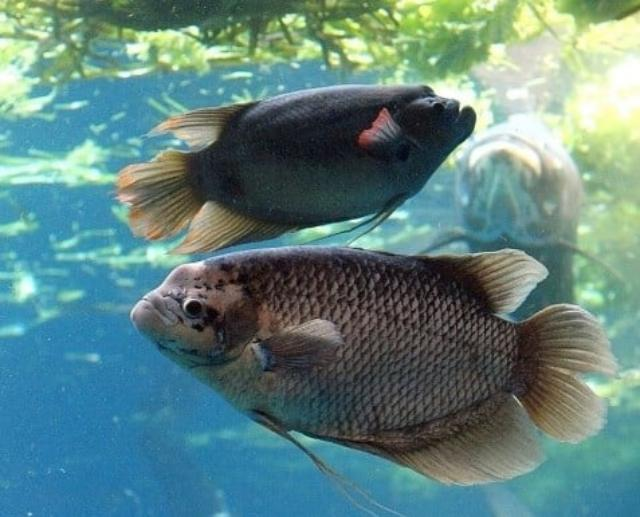Mulut: (116, 276, 184, 358), (434, 90, 494, 150)
Sirip Anal: (314, 386, 552, 492), (150, 193, 314, 268)
Sirip Dada: (234, 310, 360, 390), (341, 103, 429, 182)
Sirip Ekor: (490, 279, 636, 453), (105, 138, 213, 258)
Sirip Perut: (228, 390, 407, 517), (309, 182, 423, 258)
Sirip Punggung: (398, 239, 568, 323), (129, 94, 285, 152)
